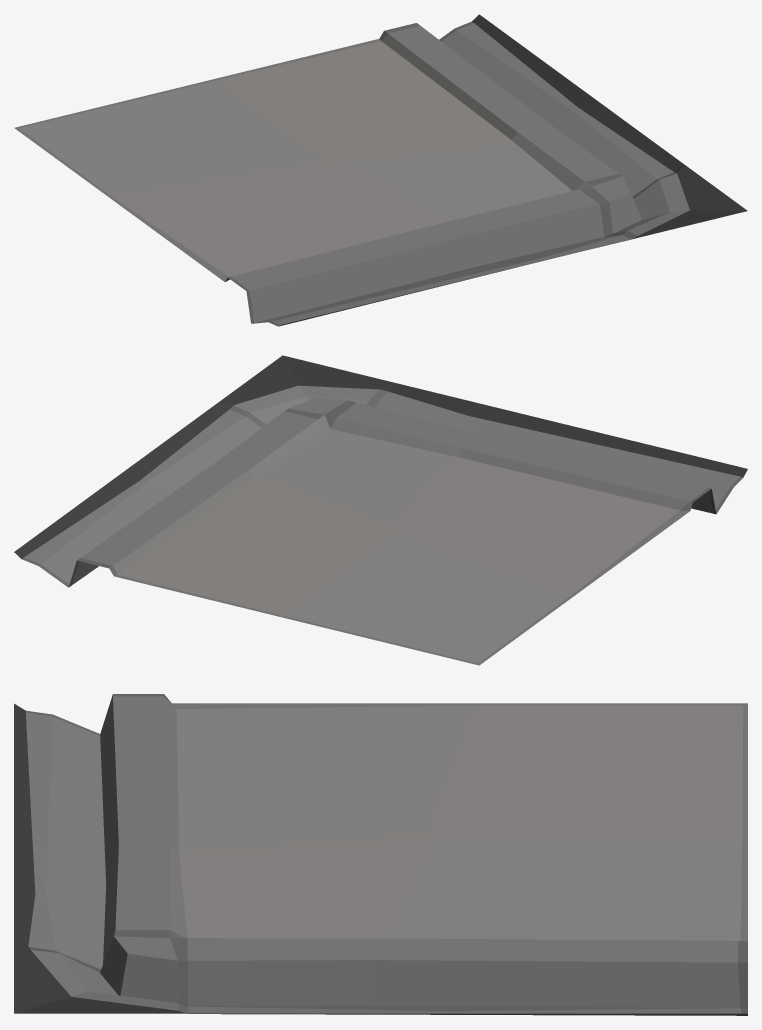
The model's file is SM_Gen_Env_Sidewalk_Corner_01.fbx.
The picture shows the model from 3 angles, top to bottom: view 1: azimuth 30°, elevation 25°; view 2: azimuth 150°, elevation 25°; view 3: azimuth 270°, elevation 25°; orthographic projection. The views are drawn at different scales.
Visible parts, largest first — view 1: SM_Gen_Env_Sidewalk_Corner_01; view 2: SM_Gen_Env_Sidewalk_Corner_01; view 3: SM_Gen_Env_Sidewalk_Corner_01.
Boxes of the visible parts, box(x1,y1,x2,y2) form: SM_Gen_Env_Sidewalk_Corner_01: box(14, 14, 747, 326); SM_Gen_Env_Sidewalk_Corner_01: box(14, 355, 747, 665); SM_Gen_Env_Sidewalk_Corner_01: box(14, 694, 747, 1015).
Size of the model in its own units: 250 by 15 by 250.
